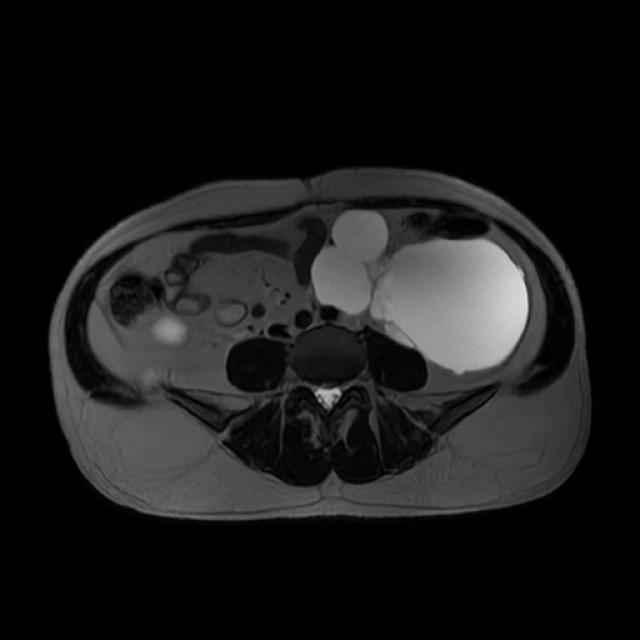sag: (150, 315, 191, 347)
sol: (310, 210, 528, 373)
